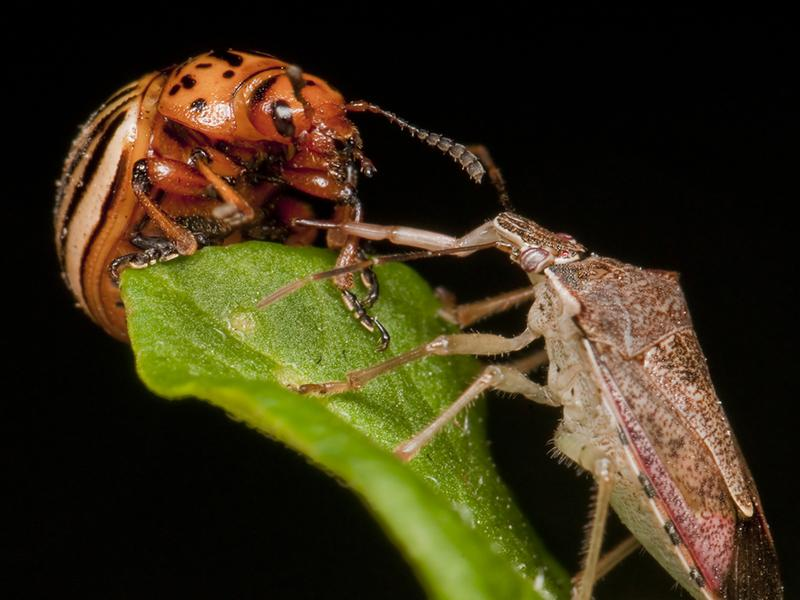hrosc: (49, 37, 366, 320)
